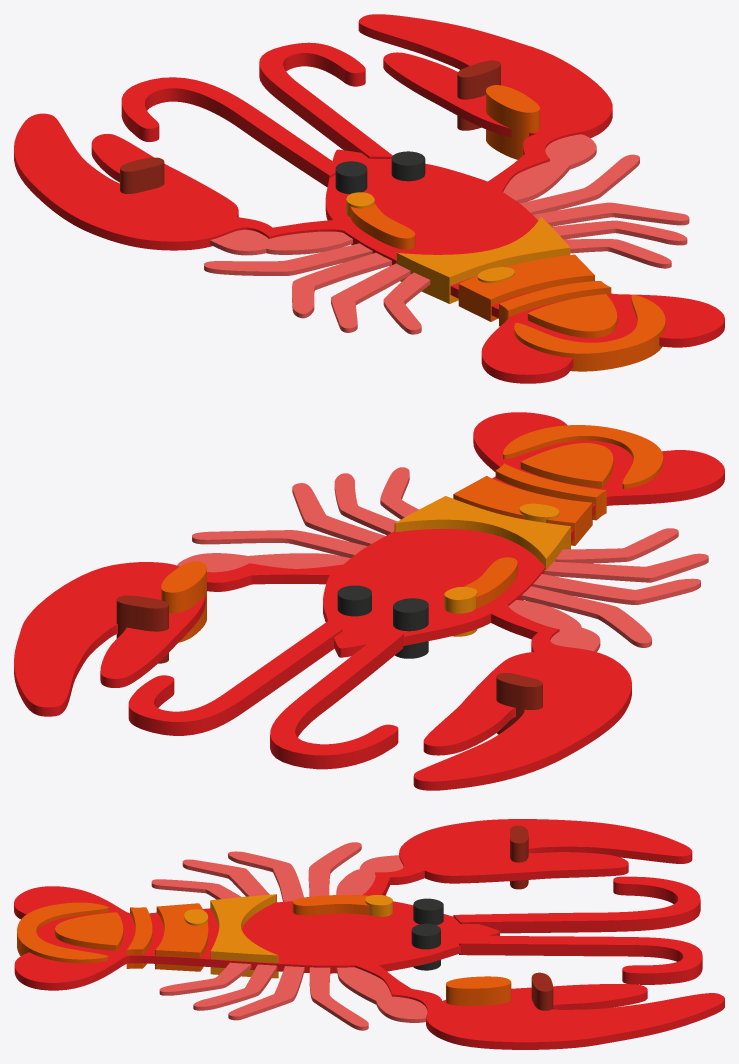
File: emoji_u1f99e.glb
The picture shows the model from 3 angles, top to bottom: view 1: azimuth 30°, elevation 25°; view 2: azimuth 150°, elevation 25°; view 3: azimuth 270°, elevation 25°; orthographic projection. The views are drawn at different scales.
Visible parts, largest first — view 1: emoji_u1f99e; view 2: emoji_u1f99e; view 3: emoji_u1f99e.
Part boxes in pixels (left/top/right/bottom): emoji_u1f99e: left=14, top=14, right=724, bottom=383; emoji_u1f99e: left=14, top=412, right=724, bottom=790; emoji_u1f99e: left=14, top=819, right=724, bottom=1049.
Bounding box in the file's own units: 0.0249 × 0.0024 × 0.0335.
